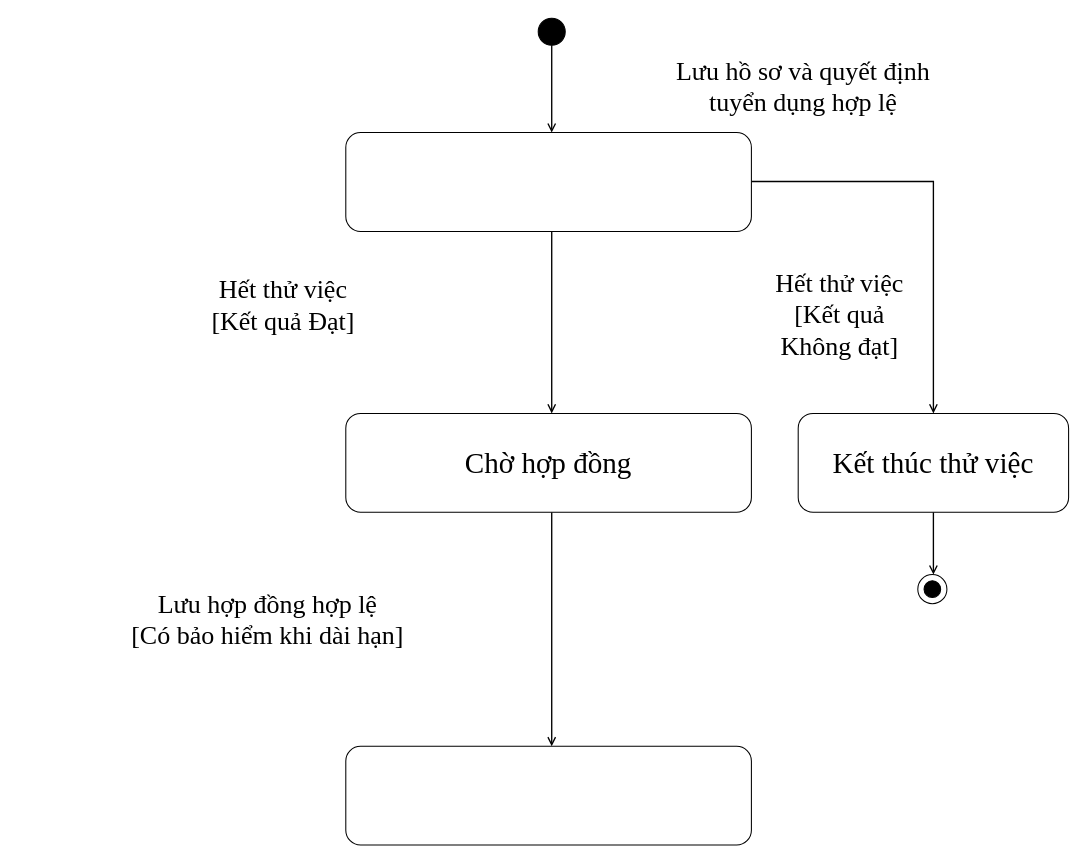
The diagram is 1087 pixels wide and 863 high, and some of its shapes have lost their labels. The box of each missing label's shape, as (x1, y1, x2, y2) in pixels:
Chính thức: (345, 745, 751, 845)
Thử việc: (345, 132, 751, 231)
